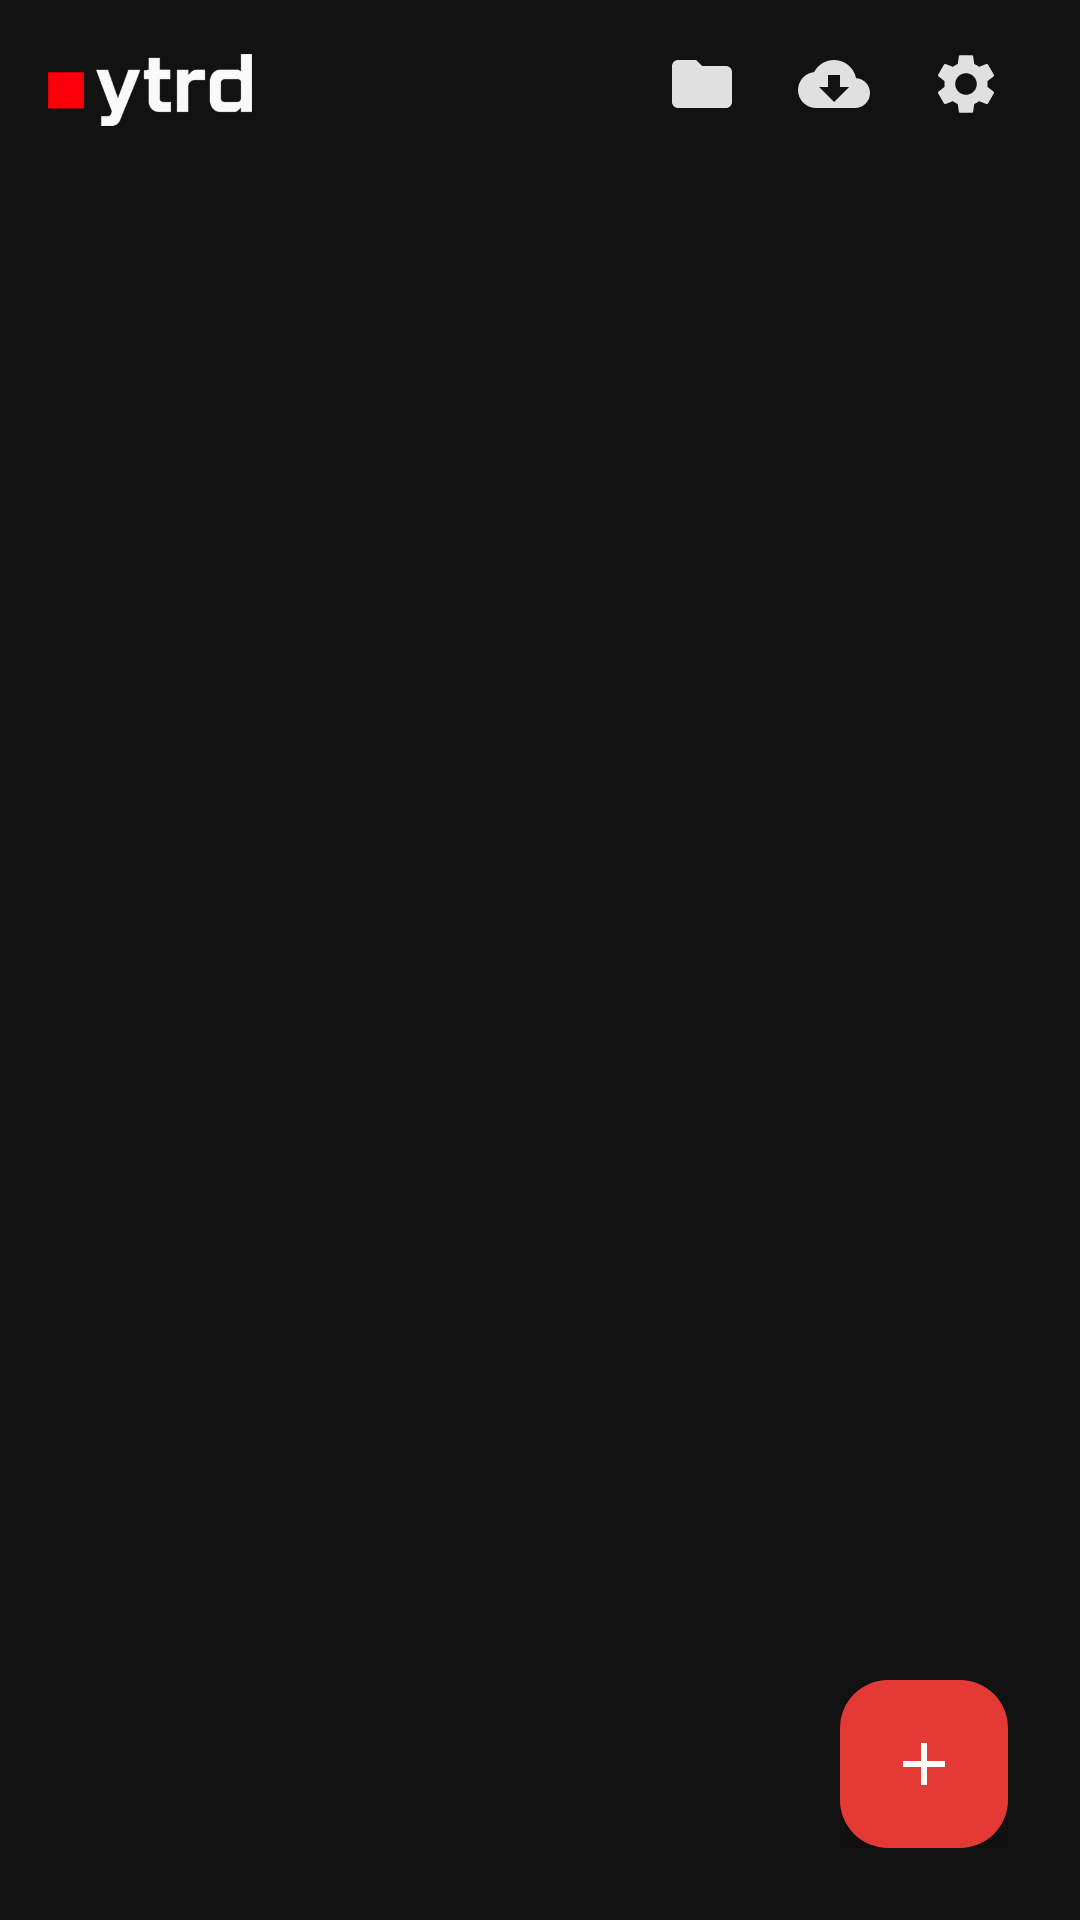

Icon bounding boxes for this 1080 × 1920 phone screenshot, format (x1, y1, x2, y2):
Активные загрузки: (798, 60, 870, 108)
Добавить ссылку: (840, 1680, 1008, 1848)
Настройки: (938, 55, 994, 113)
Список файлов: (672, 60, 732, 108)
